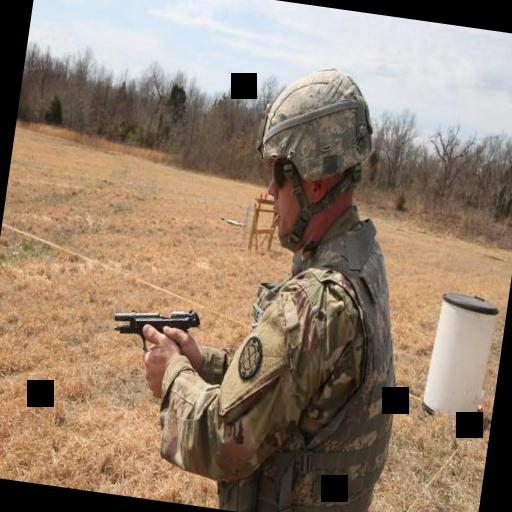Handgun: (106, 290, 202, 360)
